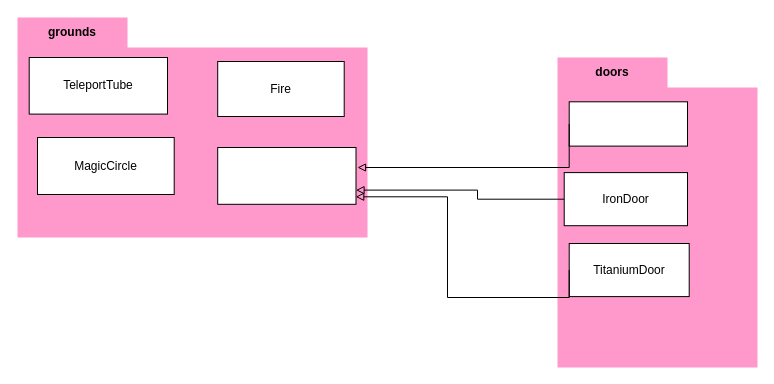
The diagram is 774 pixels wide and 384 high, and some of its shapes have lost their labels. The centre of each missing label's shape, as x and y in pixels:
"<<abstract>> Door" belongs at pixel 286 175.
"AlluminimumDoor" belongs at pixel 628 123.
